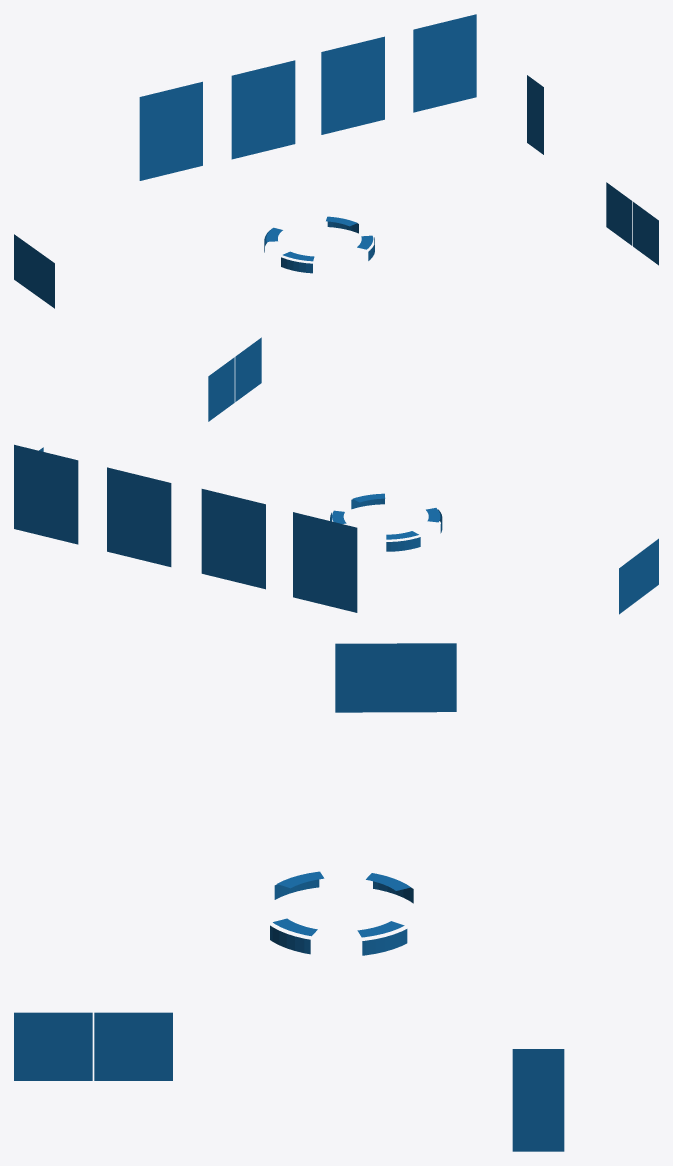
Rendered from boli.FBX.
3 views of the same model, one above another, from view 1: azimuth 30°, elevation 25°; view 2: azimuth 150°, elevation 25°; view 3: azimuth 270°, elevation 25° (orthographic). The views are drawn at different scales.
Parts seen in each view (by area): view 1: baoli, zhanguiboli, menboli; view 2: baoli, zhanguiboli; view 3: baoli, menboli, zhanguiboli.
Boxes of the visible parts, left/top/right/bottom form: baoli: left=14, top=14, right=658, bottom=308; zhanguiboli: left=264, top=216, right=374, bottom=273; menboli: left=527, top=75, right=543, bottom=154; baoli: left=14, top=337, right=658, bottom=614; zhanguiboli: left=330, top=493, right=442, bottom=551; baoli: left=14, top=643, right=456, bottom=1080; menboli: left=512, top=1049, right=564, bottom=1151; zhanguiboli: left=270, top=871, right=413, bottom=955.
Bounding box in the file's own units: 0.784 × 0.1507 × 0.5279.
